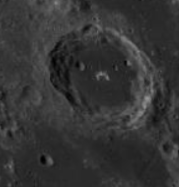crater: (30, 139, 68, 179)
